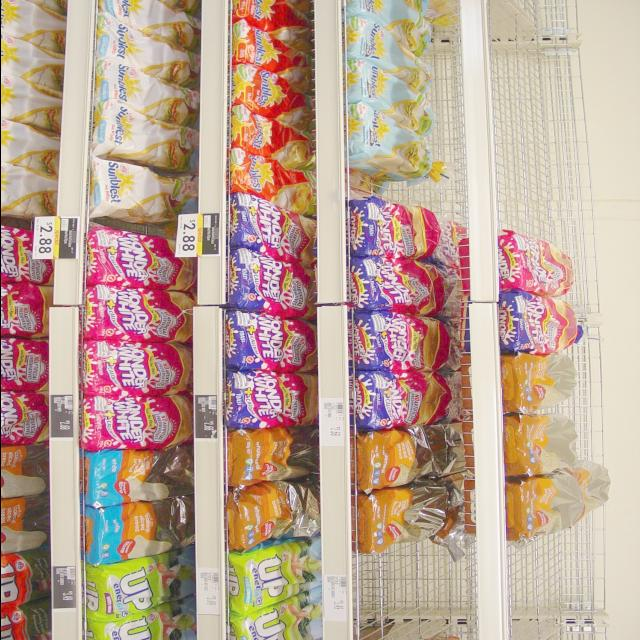empty_space: (493, 56, 567, 235), (509, 538, 593, 640), (363, 561, 470, 640), (355, 174, 429, 198)
